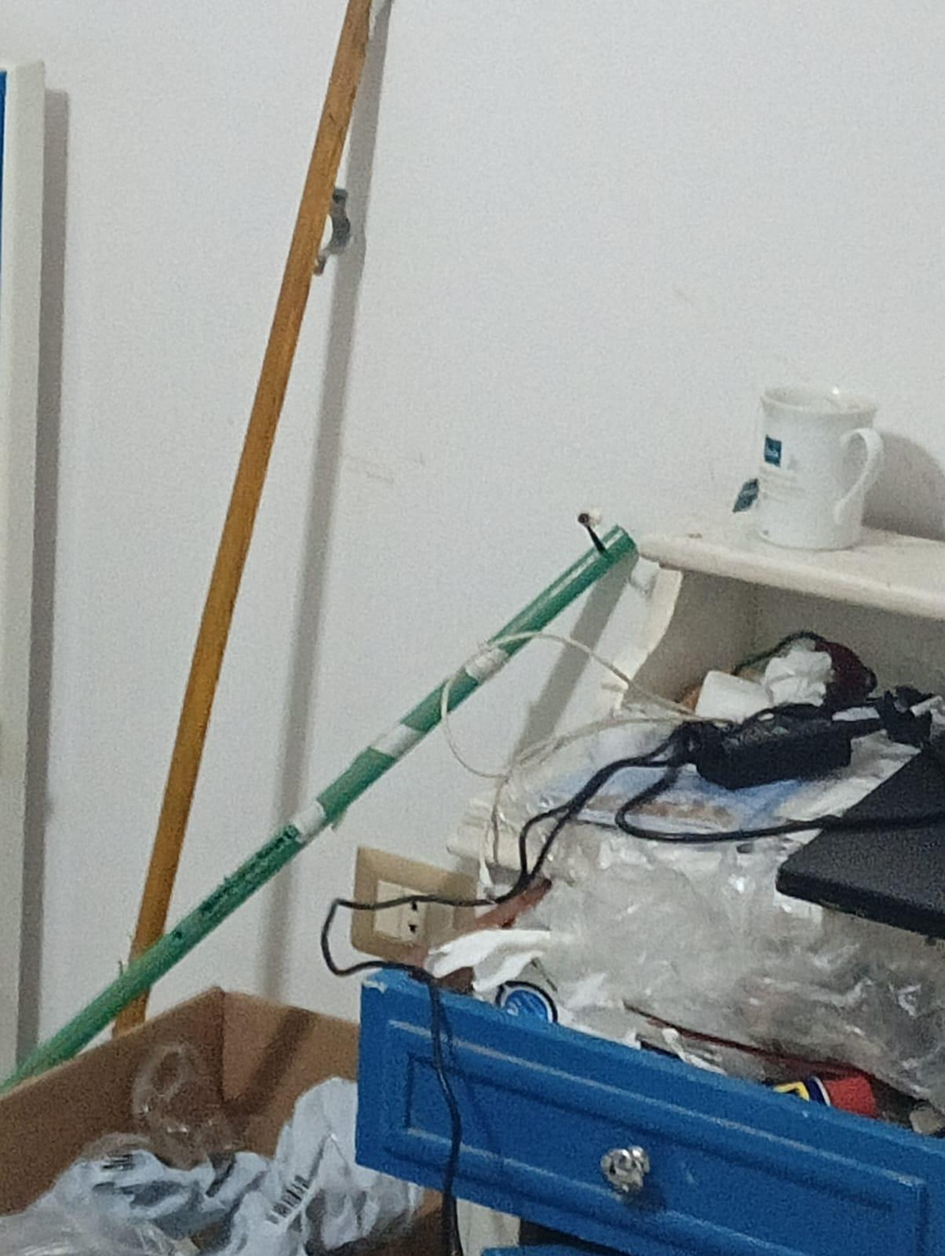cup: (754, 386, 882, 550)
